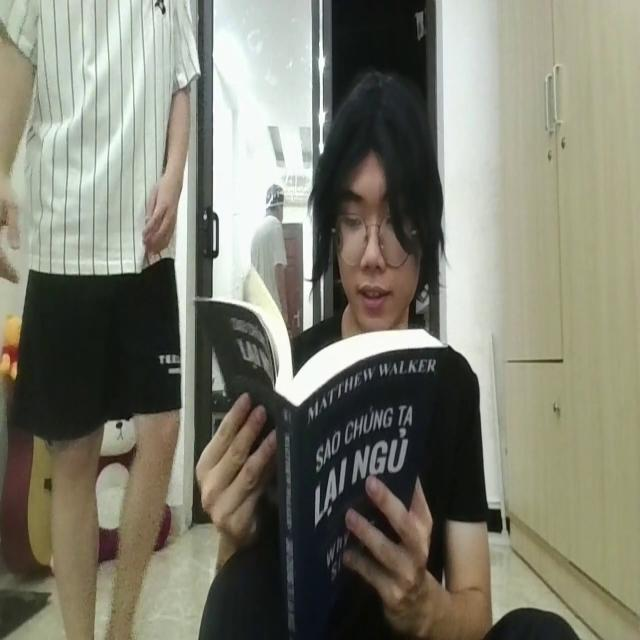book: (191, 268, 441, 640)
extra_person: (0, 0, 202, 640)
student: (191, 64, 491, 640)
